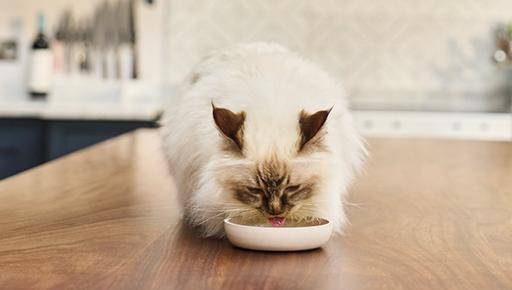cat_eating: (160, 42, 367, 252)
